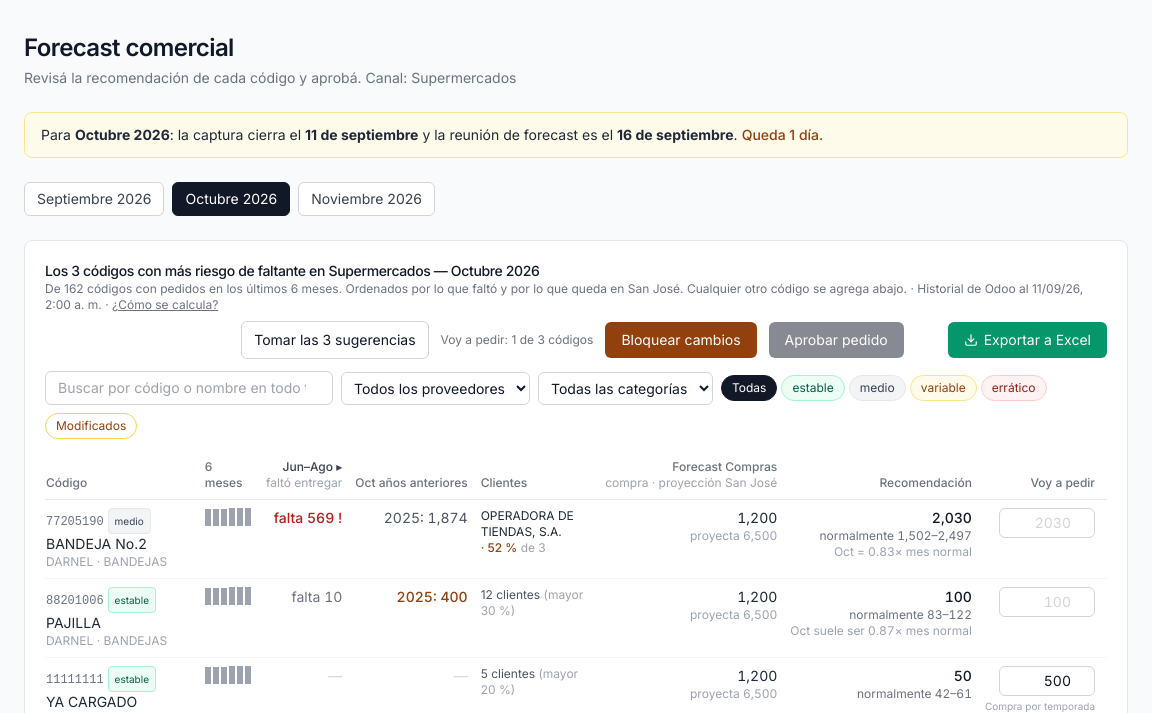
Test case: la búsqueda filtra al instante y, tras la pausa, pregunta al servidor por todo el canal
Expected: the text "77205190" is shown, [46, 515, 104, 529]
Type "pajilla" into the search field labelled "Buscar por código o nombre". click: x=189, y=388
box: [45, 371, 333, 405]
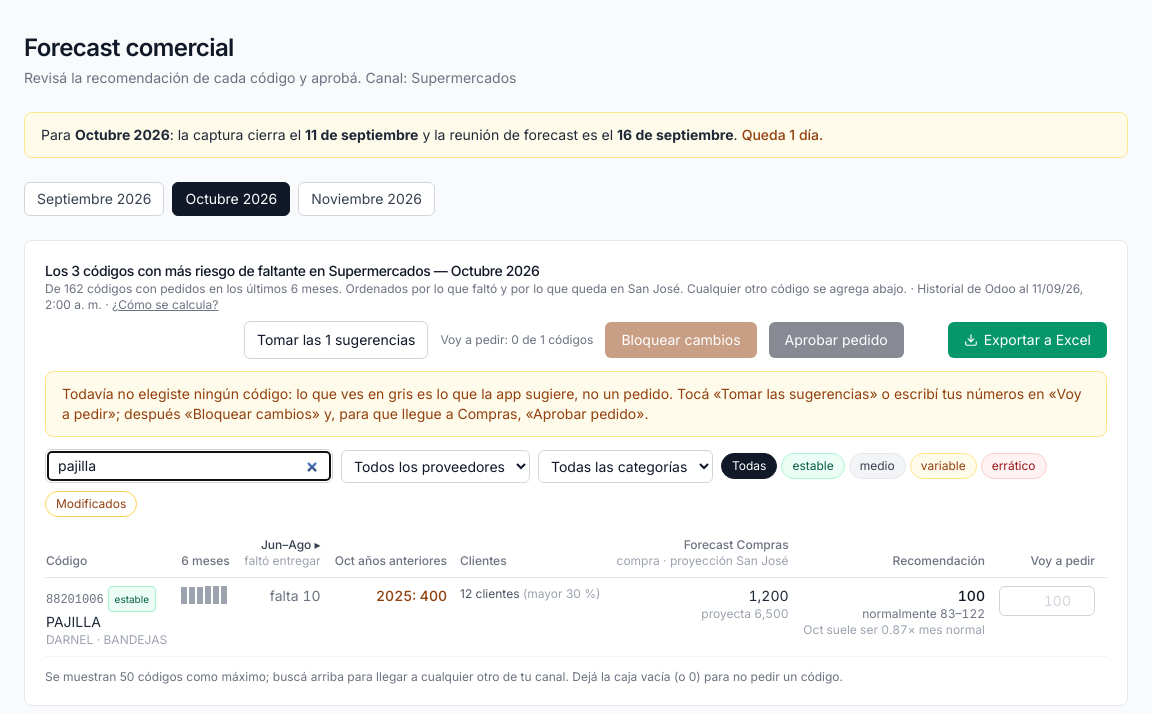
Expected: the text "88201006" is shown, [46, 593, 104, 607]
Result: the text "77205190" is gone
Result: the button "Tomar las 1 sugerencias" is shown at [244, 321, 428, 359]
Clear the search field named "Buscar por código o nombre". click: x=189, y=466
box: [45, 449, 333, 483]
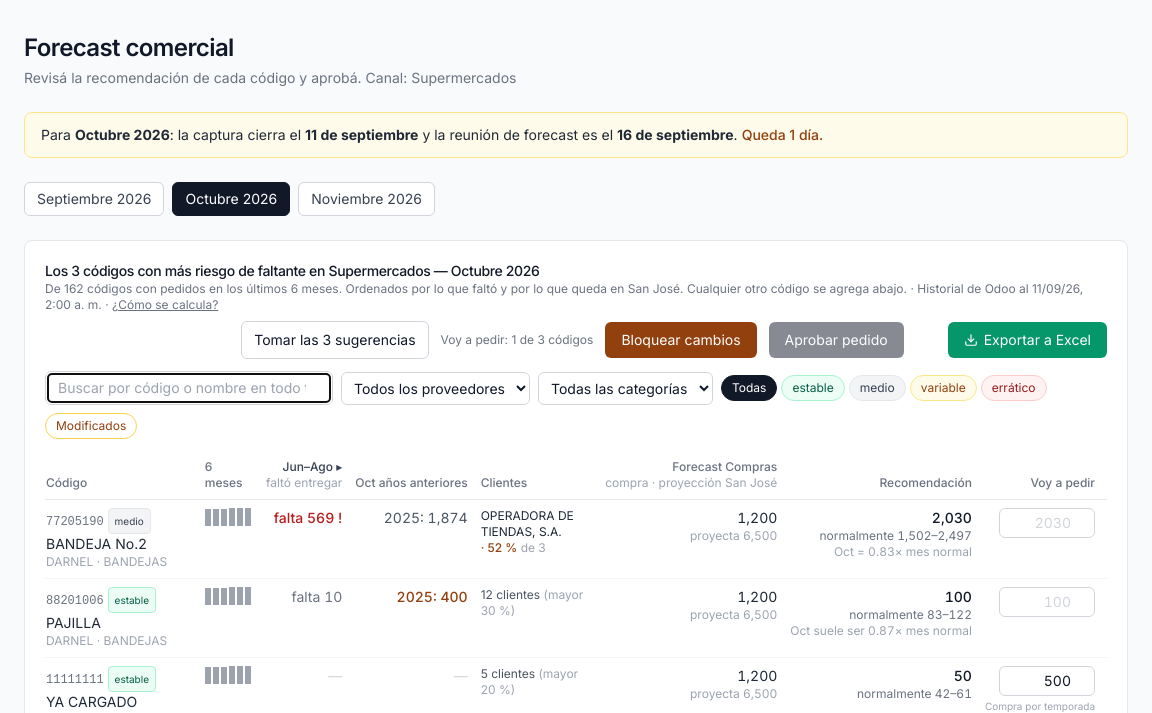
Type "vaso" into the search field labelled "Buscar por código o nombre". click: x=189, y=388
box: [45, 371, 333, 405]
Wait 400 ms
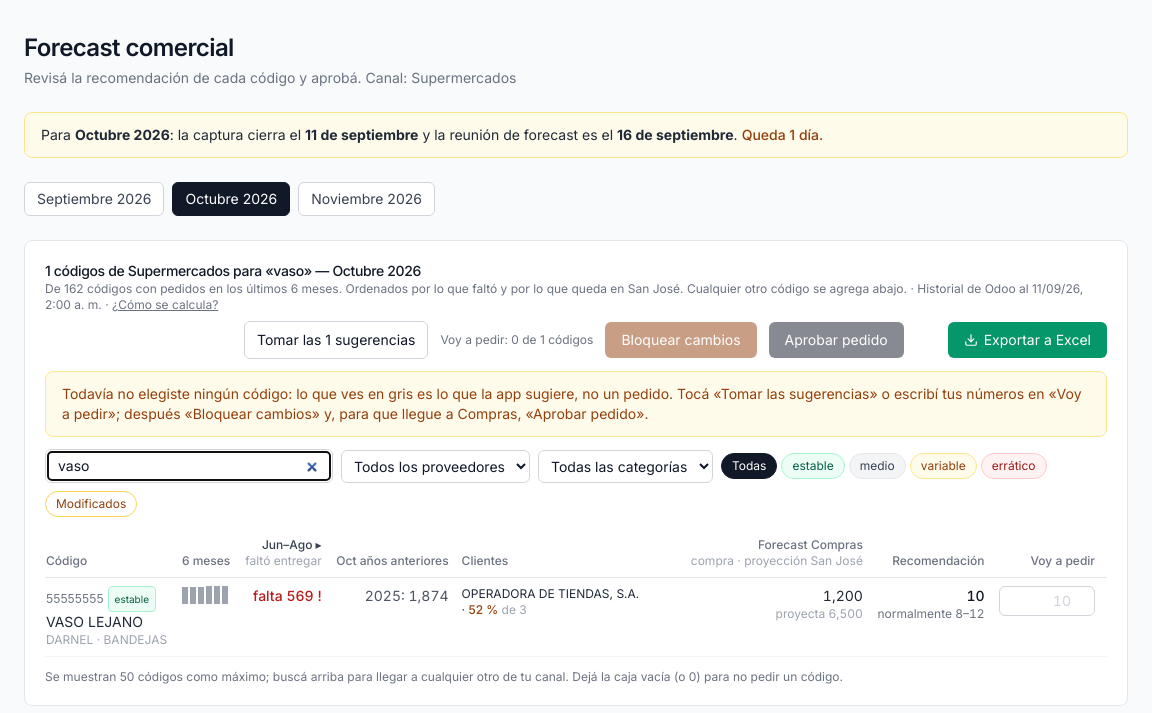
Result: the text "55555555" is shown at [46, 593, 104, 607]
Result: the heading "1 códigos de Supermercados para «vaso» — Octubre 2026" is shown at [45, 262, 421, 279]
